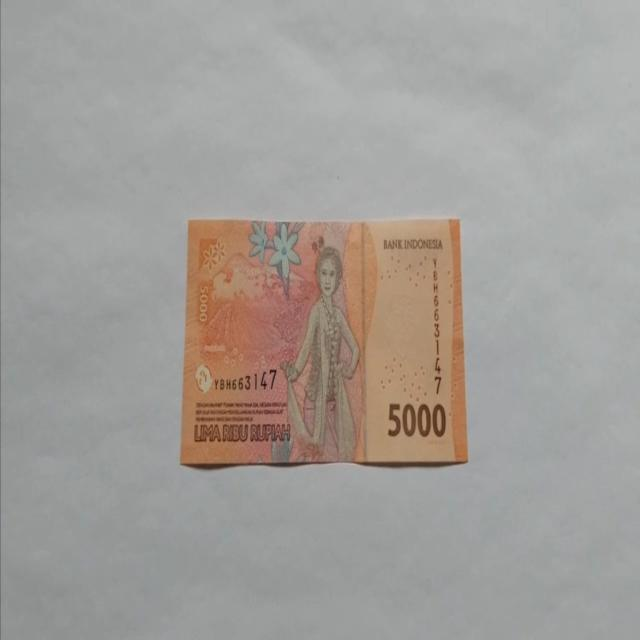lima ribu rupiah: (180, 216, 468, 468), (279, 245, 361, 463)
